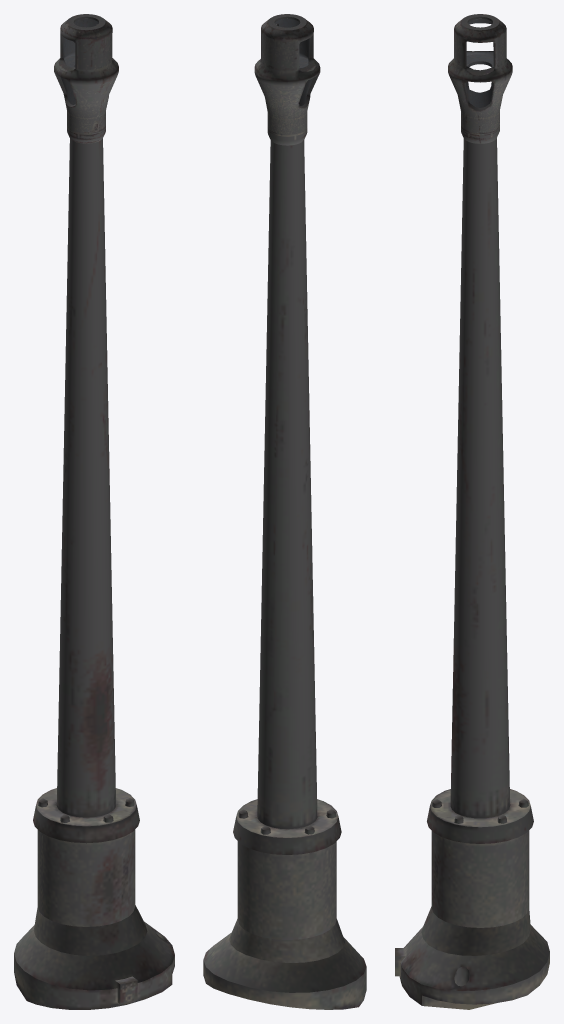
File: Gun_06.glb
The picture shows the model from 3 angles, left to right: view 1: azimuth 30°, elevation 25°; view 2: azimuth 150°, elevation 25°; view 3: azimuth 270°, elevation 25°; orthographic projection.
Visible parts, largest first — view 1: set_0_group_0; view 2: set_0_group_0; view 3: set_0_group_0.
Part boxes in pixels (x1,y1,x2,y2): set_0_group_0: (14, 14, 174, 1009); set_0_group_0: (203, 14, 366, 1009); set_0_group_0: (395, 14, 549, 1009).
Size of the model in its own units: 0.7114 by 4.63 by 0.6768.
Materials: 1 (1 with a texture image).
